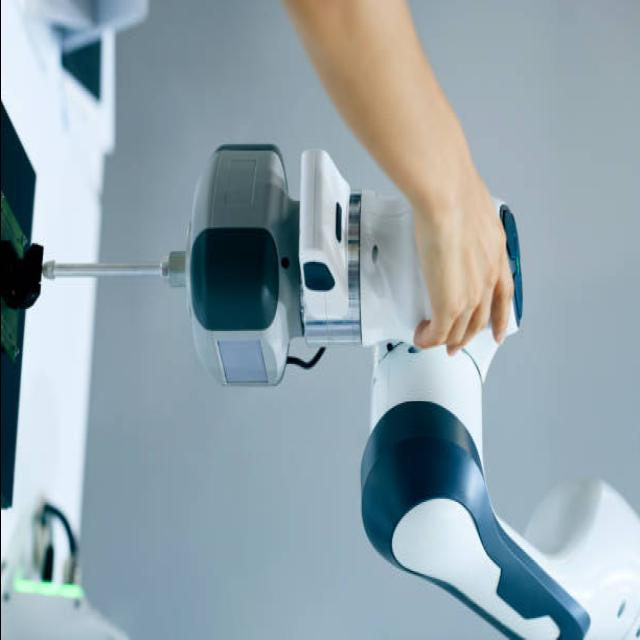Robotic-arm: (167, 126, 640, 640)
